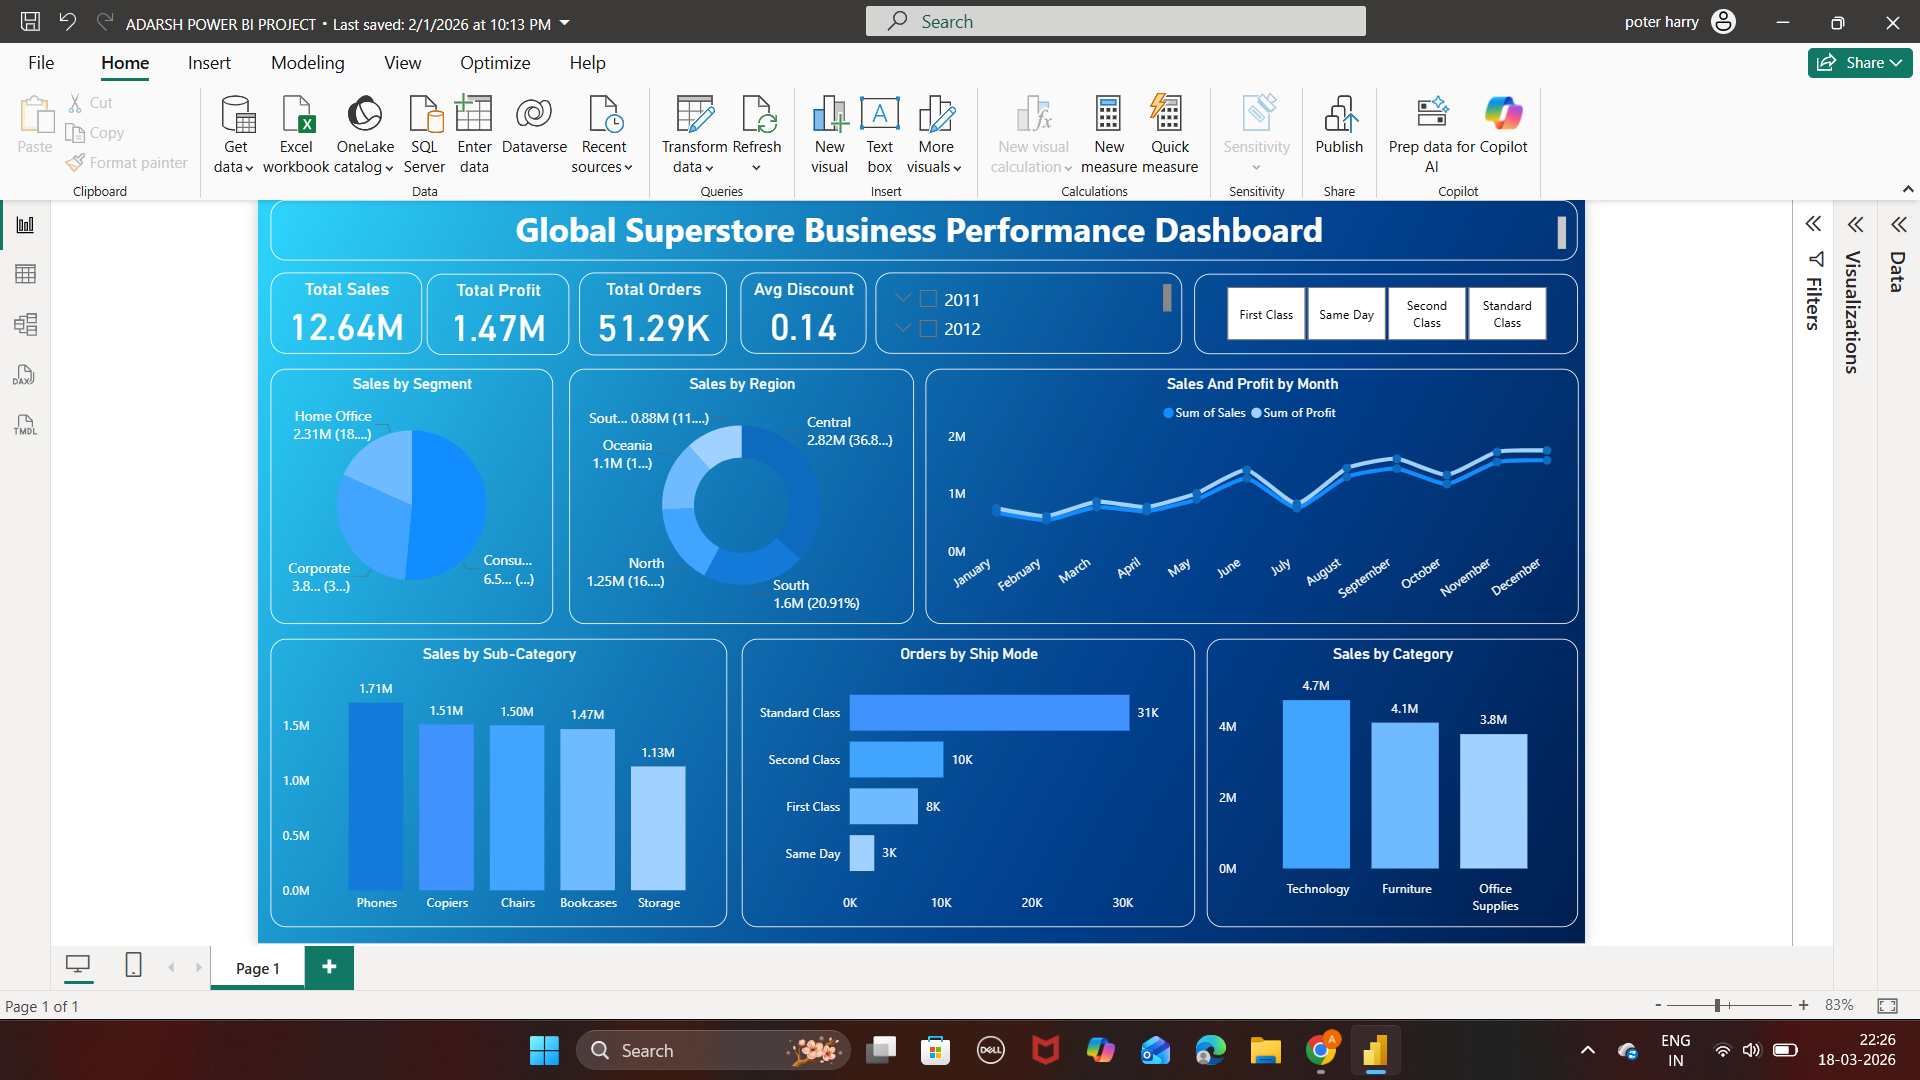

What the dashboard file says about the page in this screenshot:
{"tool":"powerbi","page":{"name":"Page 1","canvas":[1280,720],"ordinal":0},"visuals":[{"type":"card","title":"Total Sales","fields":{"Values":["Sum(Sheet1.Sales)"]},"box":[12.5,70,146.2,78.8],"z":0},{"type":"card","title":"Total Profit","fields":{"Values":["Sum(Sheet1.Profit)"]},"box":[162.5,71.2,137.5,78.8],"z":1000},{"type":"columnChart","title":" Sales by Category","fields":{"Category":["Sheet1.Category"],"Y":["Sum(Sheet1.Sales)"]},"box":[915.3,424,358.1,278.6],"z":2000},{"type":"columnChart","title":"Sales by Sub-Category","fields":{"Y":["Sum(Sheet1.Sales)"],"Category":["Sheet1.Sub-Category"]},"box":[12.3,424,440.5,278.6],"z":3000},{"type":"stackedAreaChart","title":"Sales And Profit by Month","fields":{"Category":["Sheet1.Order Date.Variation.Date Hierarchy.Month"],"Y":["Sum(Sheet1.Sales)","Sum(Sheet1.Profit)"]},"box":[643.8,162.5,630,246.2],"z":4000},{"type":"donutChart","title":"Sales by Region","fields":{"Category":["Sheet1.Region"],"Y":["Sum(Sheet1.Sales)"]},"box":[300,162.5,332.5,246.2],"z":5000},{"type":"barChart","title":"Orders by Ship Mode","fields":{"Y":["CountNonNull(Sheet1.Order ID)"],"Category":["Sheet1.Ship Mode"]},"box":[466.6,424,437.7,278.6],"z":6000},{"type":"pieChart","title":"Sales by Segment","fields":{"Category":["Sheet1.Segment"],"Y":["Sum(Sheet1.Sales)"]},"box":[12.5,162.5,272.5,246.2],"z":8000},{"type":"textbox","box":[12.5,0,1261.2,58.8],"z":9000},{"type":"card","title":"Total Orders","fields":{"Values":["CountNonNull(Sheet1.Row ID)"]},"box":[310,70,142.5,80],"z":10000},{"type":"card","title":"Avg Discount","fields":{"Values":["Sheet1.avg discount"]},"box":[466.2,70,121.2,78.8],"z":11000},{"type":"slicer","fields":{"Values":["Sheet1.Ship Mode"]},"box":[903.8,71.2,370,77.5],"z":12000},{"type":"slicer","fields":{"Values":["Sheet1.Order Date.Variation.Date Hierarchy.Year","Sheet1.Order Date.Variation.Date Hierarchy.Quarter","Sheet1.Order Date.Variation.Date Hierarchy.Month","Sheet1.Order Date.Variation.Date Hierarchy.Day"]},"box":[595.5,70,296.4,78.2],"z":13001}]}

Visuals, with their boxes on the page's 1280x720 design canvas (x1, y1, x2, y2). These are canvas units, not pixel positions in the 1920x1080 screenshot, which may show the page scaled, cropped or inside an application window:
"Total Sales" card: left=12, top=70, right=159, bottom=149
"Total Profit" card: left=162, top=71, right=300, bottom=150
" Sales by Category" columnChart: left=915, top=424, right=1273, bottom=703
"Sales by Sub-Category" columnChart: left=12, top=424, right=453, bottom=703
"Sales And Profit by Month" stackedAreaChart: left=644, top=162, right=1274, bottom=409
"Sales by Region" donutChart: left=300, top=162, right=632, bottom=409
"Orders by Ship Mode" barChart: left=467, top=424, right=904, bottom=703
"Sales by Segment" pieChart: left=12, top=162, right=285, bottom=409
textbox: left=12, top=0, right=1274, bottom=59
"Total Orders" card: left=310, top=70, right=452, bottom=150
"Avg Discount" card: left=466, top=70, right=587, bottom=149
slicer - Sheet1.Ship Mode: left=904, top=71, right=1274, bottom=149
slicer - Sheet1.Order Date.Variation.Date Hierarchy.Year x Sheet1.Order Date.Variation.Date Hierarchy.Quarter: left=596, top=70, right=892, bottom=148
